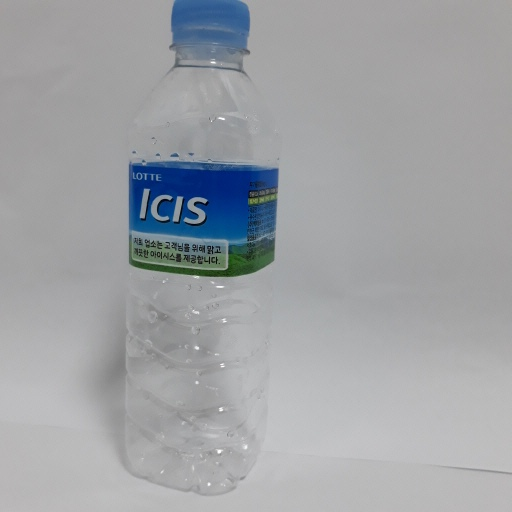Plastic_0: (111, 1, 284, 495)
